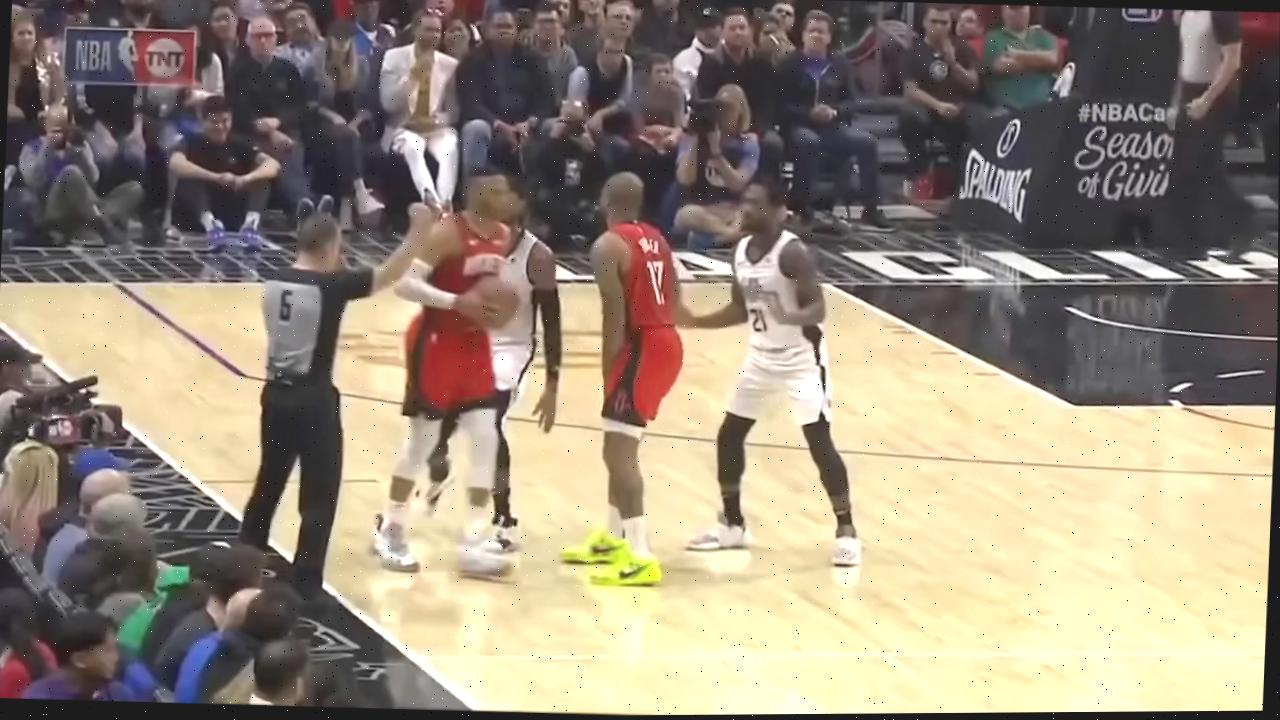no_foul: (540, 178, 896, 589)
